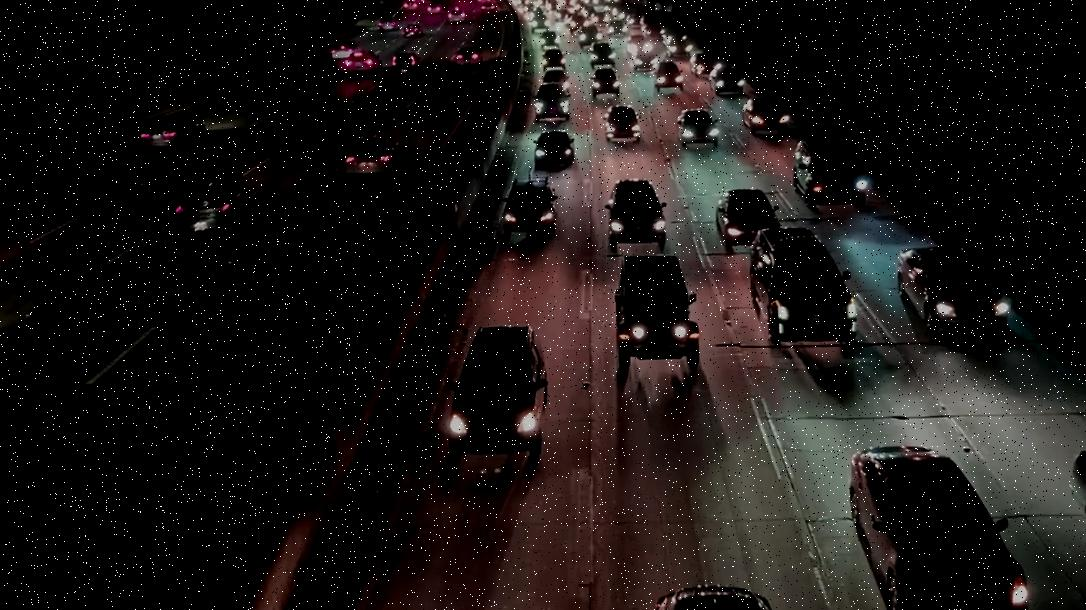car: (845, 437, 1032, 610), (439, 322, 546, 465), (748, 227, 859, 343), (614, 248, 708, 379), (898, 246, 1011, 341), (177, 179, 262, 233), (714, 188, 781, 247), (503, 180, 559, 234), (343, 137, 405, 177), (136, 117, 206, 151), (680, 110, 720, 151), (329, 42, 383, 72)
